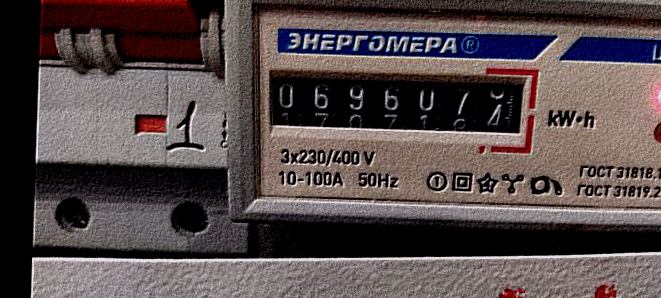0: (275, 80, 297, 111), (417, 84, 437, 114)
4: (484, 101, 504, 131)
6: (381, 83, 402, 114), (311, 81, 331, 111)
7: (452, 84, 471, 116)
9: (346, 82, 367, 112)
screen: (256, 53, 542, 155)
